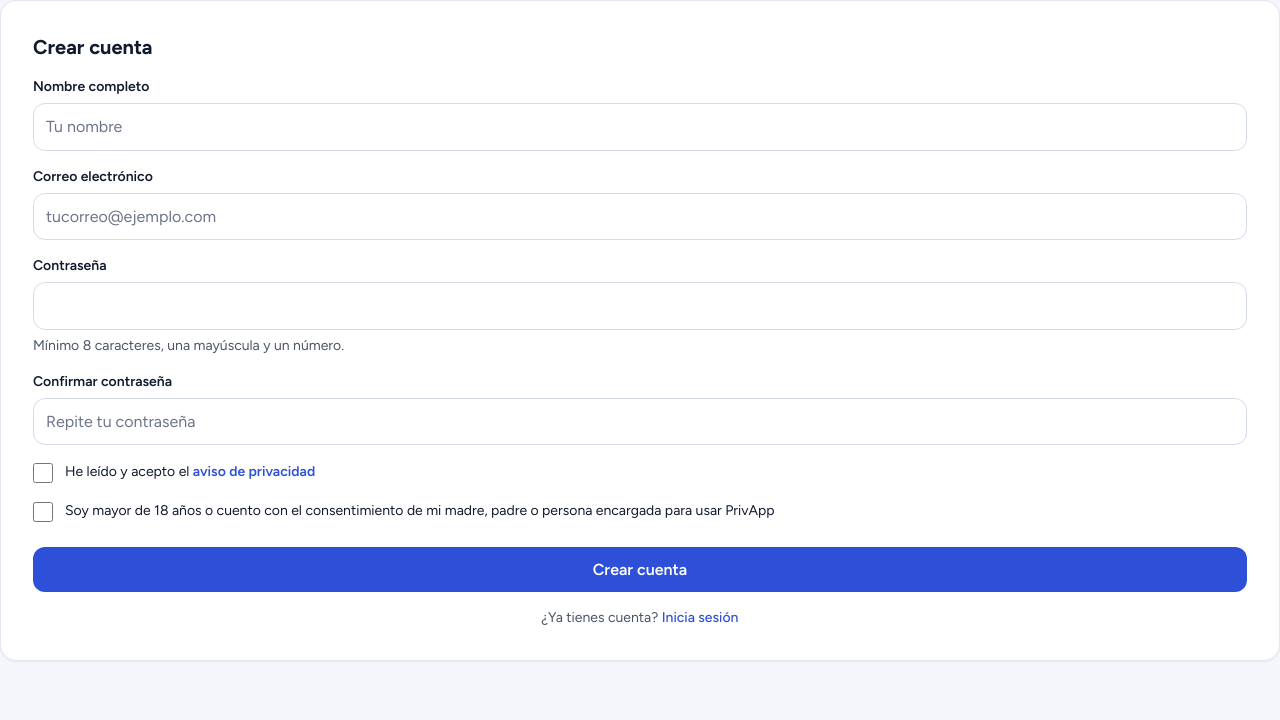
Scenario: RegisterForm › valida nombre, correo y fortaleza de la contraseña
In the field labelled "Nombre completo": (640, 127) [33,103,1247,151], type "A"
In the field labelled "Correo electrónico": (640, 216) [33,193,1247,240], type "x@privapp.test"
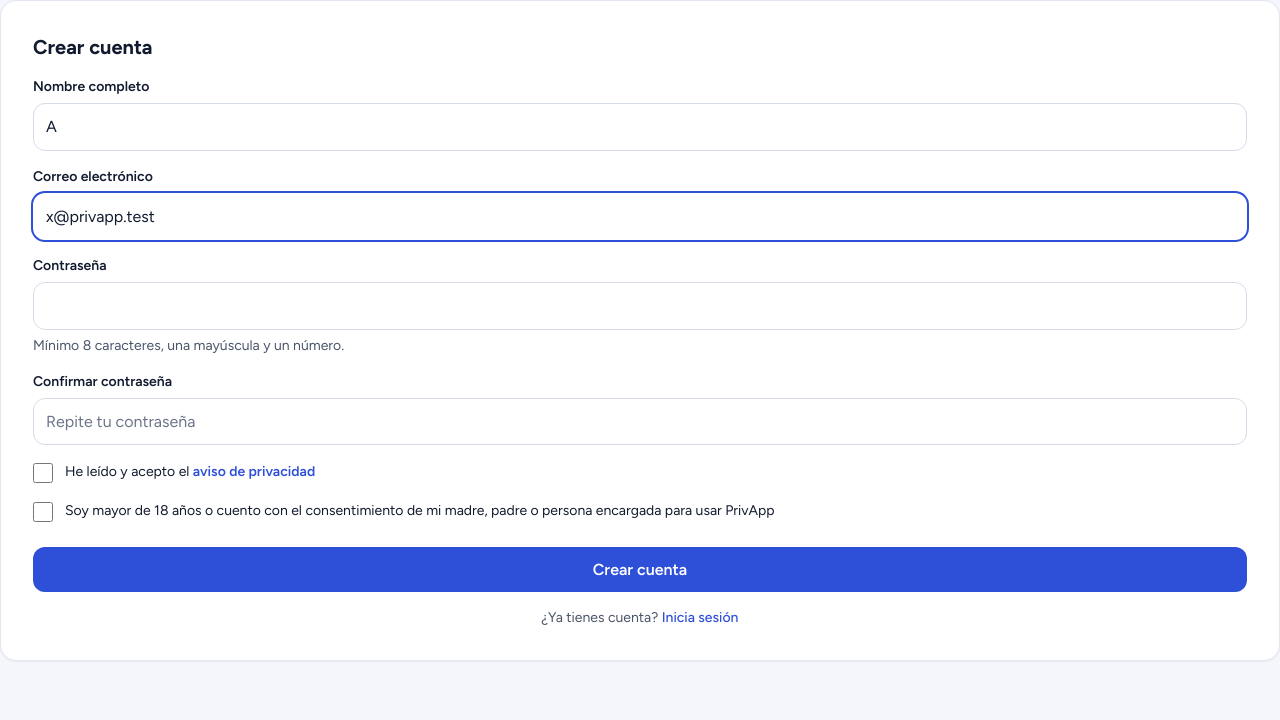
In the password field labelled "Contraseña": (640, 306) [33,282,1247,330], type "debil"
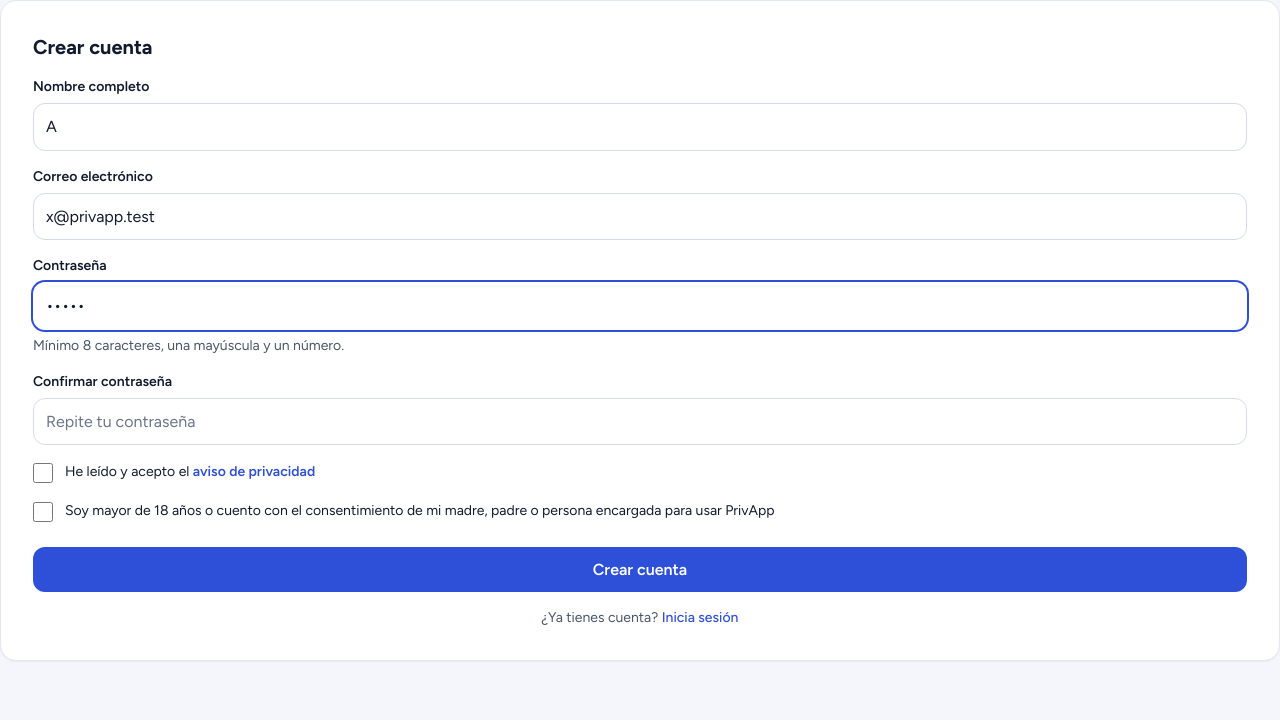
In the password field labelled "Confirmar contraseña": (640, 422) [33,398,1247,445], type "debil"
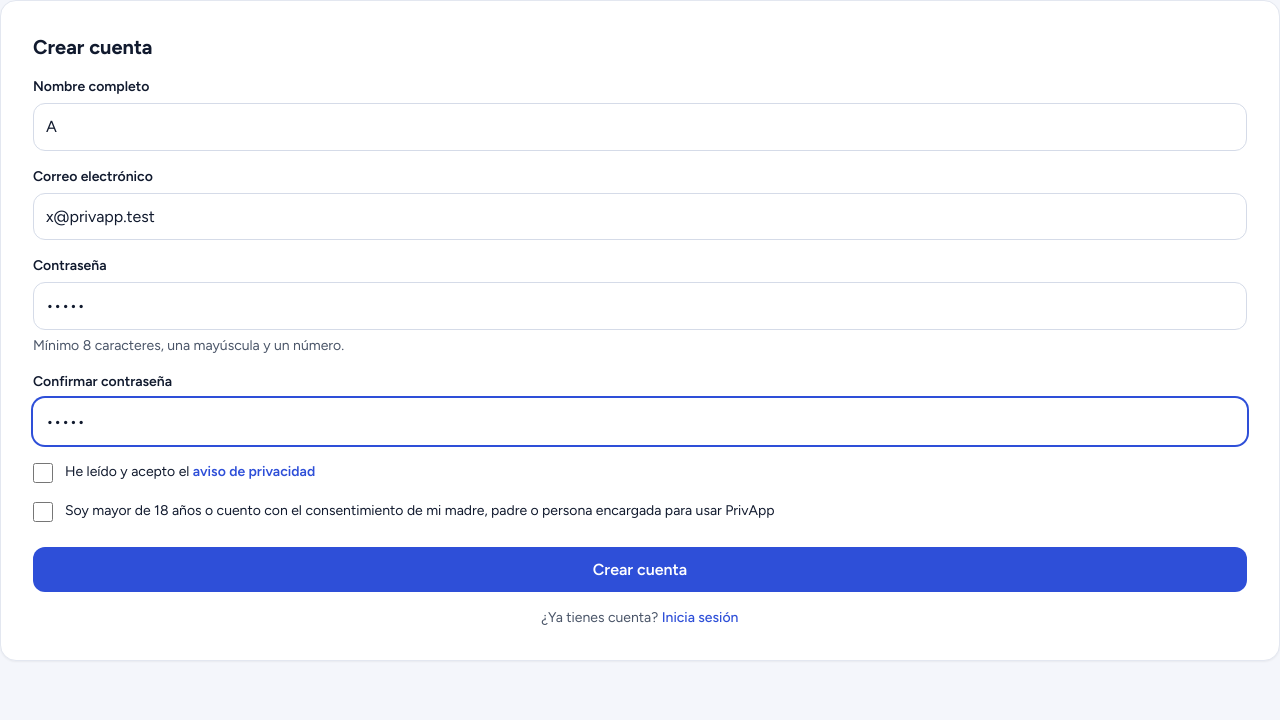
Click the checkbox labelled "He leído y acepto el aviso de privacidad": click(43, 473) [33,463,53,483]
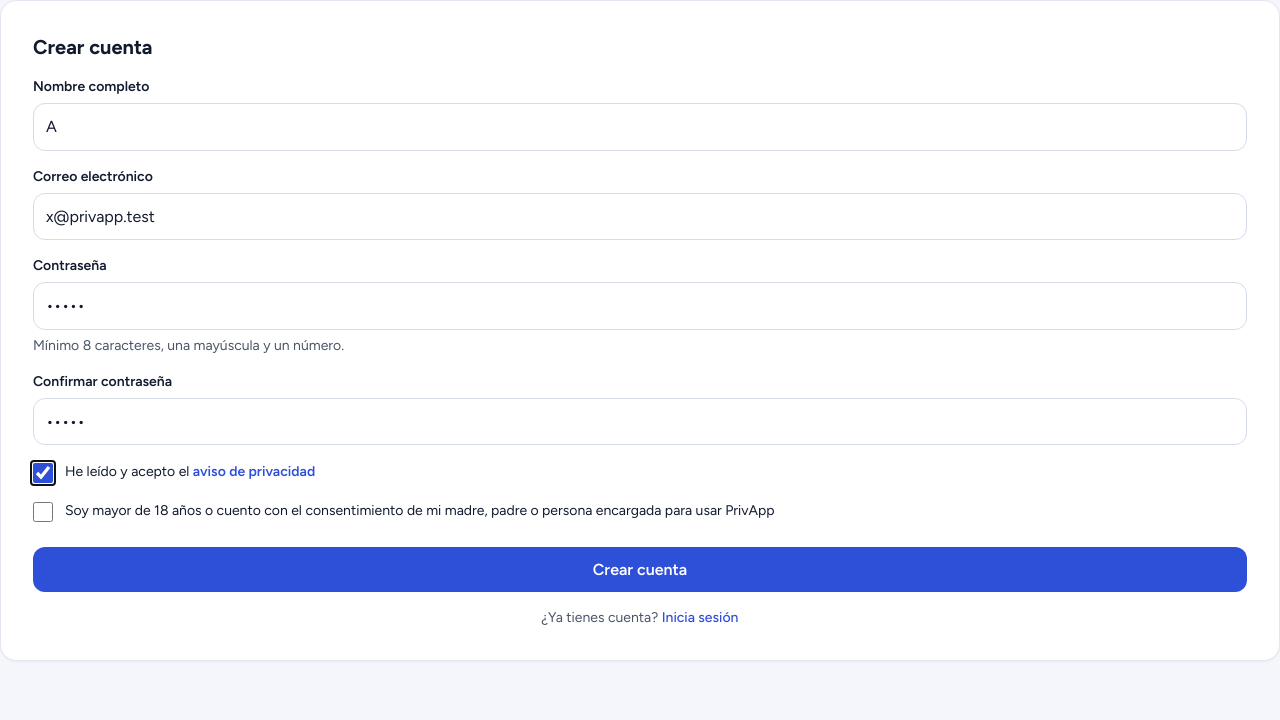
Click the checkbox labelled "mayor de 18 años": click(43, 512) [33,502,53,522]
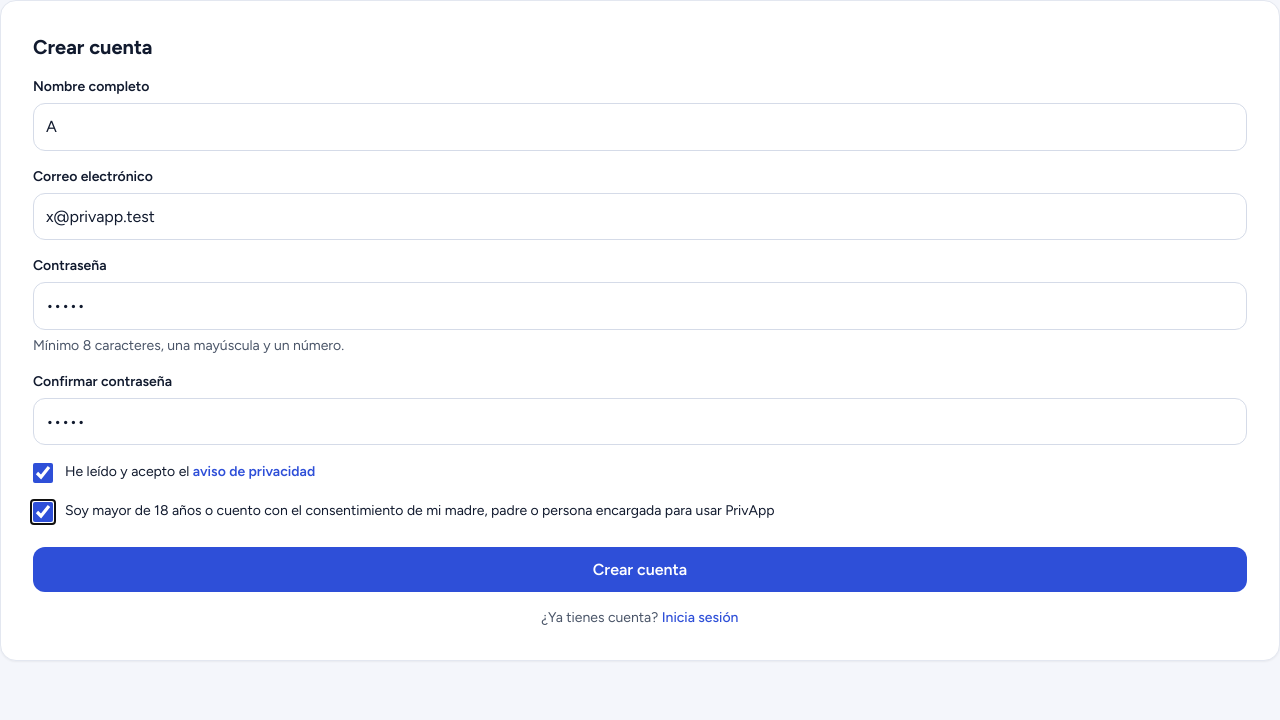
Click the button "Crear cuenta": click(640, 570) [33,547,1247,592]
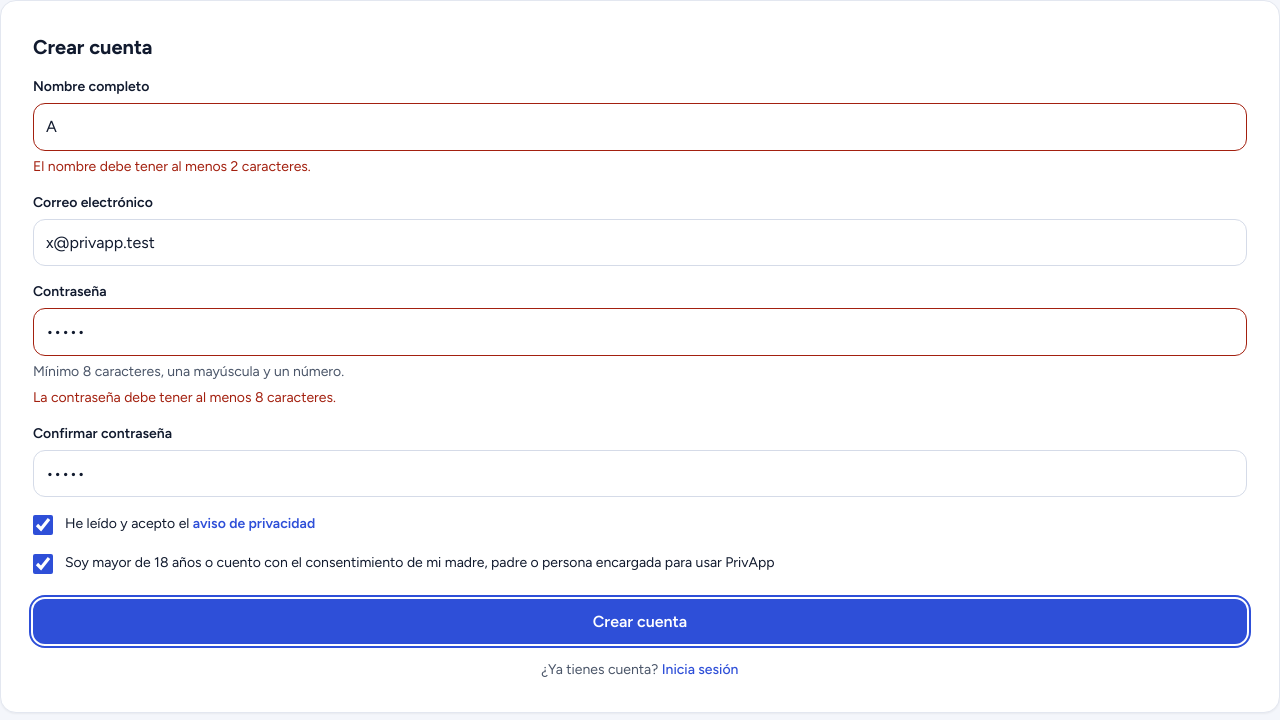
Expected: the text "El nombre debe tener al menos 2 caracteres." is shown, [33,158,311,175]
Expected: the text "La contraseña debe tener al menos 8 caracteres." is shown, [33,389,336,406]
